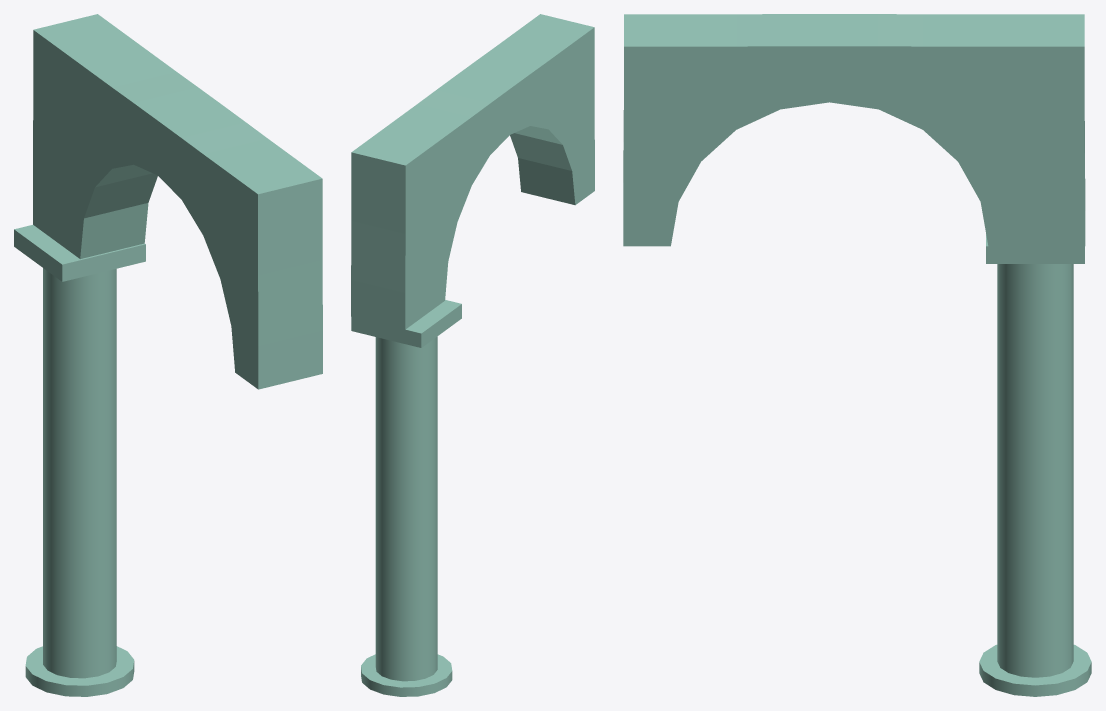
File: pillarC.FBX
The picture shows the model from 3 angles, left to right: view 1: azimuth 30°, elevation 25°; view 2: azimuth 150°, elevation 25°; view 3: azimuth 270°, elevation 25°; orthographic projection. The views are drawn at different scales.
Visible parts, largest first — view 1: pillarC; view 2: pillarC; view 3: pillarC.
Boxes of the visible parts, box(x1,y1,x2,y2) form: pillarC: box(14, 14, 322, 696); pillarC: box(351, 14, 594, 696); pillarC: box(623, 14, 1091, 696).
Size of what is drawn, in the model's own units: 137 by 569 by 868.
